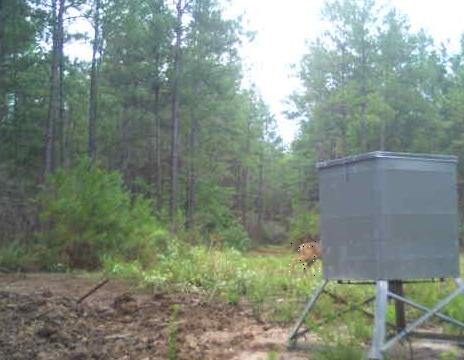Deer: (289, 240, 322, 278)
